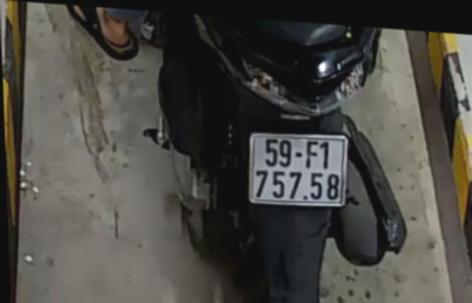License_Plate: (243, 131, 351, 210)
